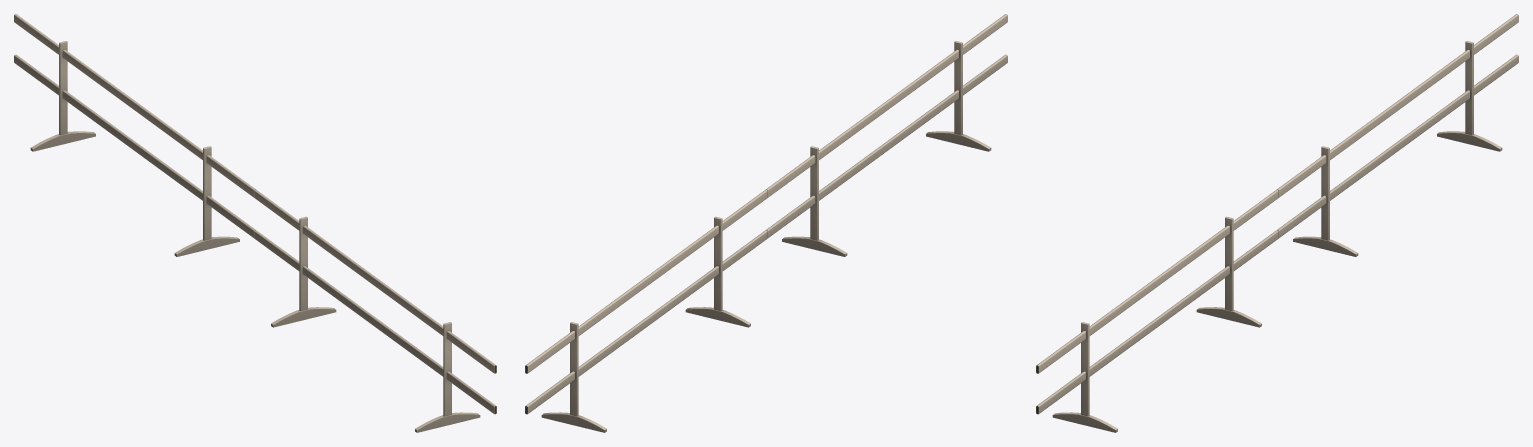
File: 03_Fence_2.glb
3 views of the same model, side by side, from view 1: azimuth 30°, elevation 25°; view 2: azimuth 150°, elevation 25°; view 3: azimuth 330°, elevation 25° (orthographic).
Parts seen in each view (by area): view 1: Fence_2; view 2: Fence_2; view 3: Fence_2.
Part boxes in pixels (<box>): Fence_2: <box>14,14,496,432</box>; Fence_2: <box>525,14,1007,432</box>; Fence_2: <box>1036,14,1518,432</box>.
Bounding box in the file's own units: 0.6908 × 1.06 × 9.1.
Materials: 1 (1 with a texture image).
